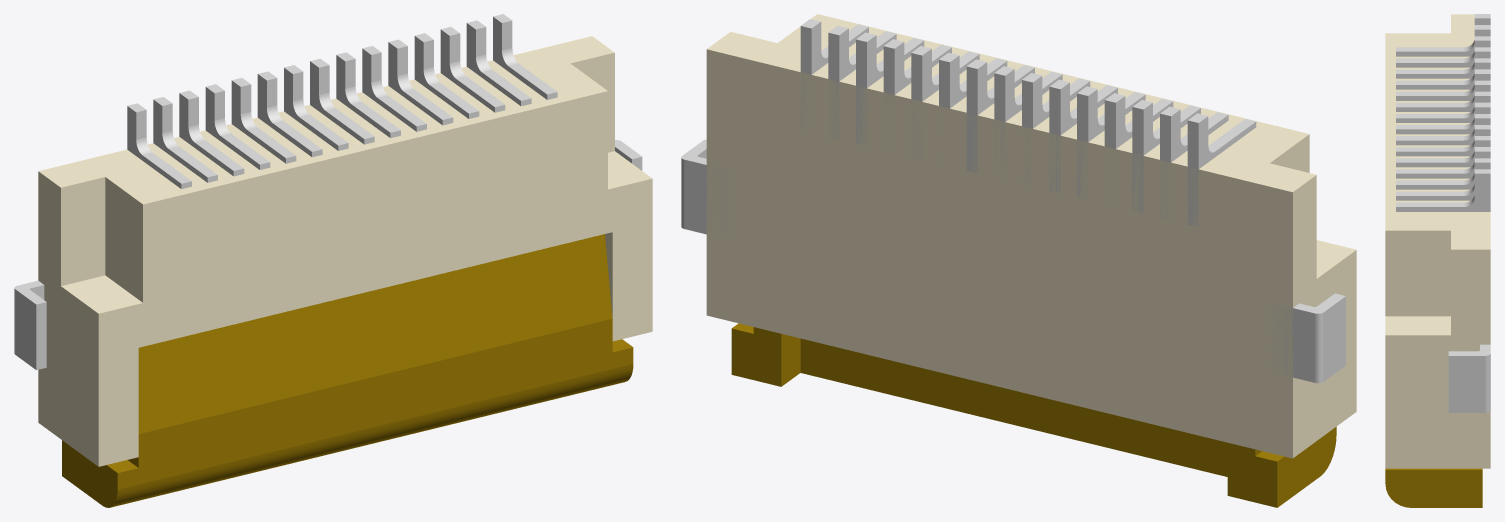
The model's file is Hirose_FH12-15S-0.5SH_1x15-1MP_P0.50mm_Horizontal.glb.
3 renders of one model, left to right at view 1: azimuth 30°, elevation 25°; view 2: azimuth 150°, elevation 25°; view 3: azimuth 270°, elevation 25°, orthographic. The views are drawn at different scales.
Parts seen in each view (by area): view 1: Shape_IndexedFaceSet.005, Shape_IndexedFaceSet.023, Shape_IndexedFaceSet.016, Shape_IndexedFaceSet, Shape_IndexedFaceSet.008, Shape_IndexedFaceSet.018, Shape_IndexedFaceSet.007, Shape_IndexedFaceSet.006, Shape_IndexedFaceSet.020, Shape_IndexedFaceSet.014, Shape_IndexedFaceSet.226, Shape_IndexedFaceSet.003 (+17 smaller); view 2: Shape_IndexedFaceSet.001, Shape_IndexedFaceSet.030, Shape_IndexedFaceSet, Shape_IndexedFaceSet.008, Shape_IndexedFaceSet.027, Shape_IndexedFaceSet.026, Shape_IndexedFaceSet.233, Shape_IndexedFaceSet.020, Shape_IndexedFaceSet.224, Shape_IndexedFaceSet.226, Shape_IndexedFaceSet.165, Shape_IndexedFaceSet.102 (+13 smaller); view 3: Shape_IndexedFaceSet.002, Shape_IndexedFaceSet, Shape_IndexedFaceSet.004, Shape_IndexedFaceSet.017, Shape_IndexedFaceSet.217, Shape_IndexedFaceSet.010, Shape_IndexedFaceSet.094, Shape_IndexedFaceSet.070, Shape_IndexedFaceSet.066, Shape_IndexedFaceSet.074, Shape_IndexedFaceSet.078, Shape_IndexedFaceSet.038 (+27 smaller).
Part boxes in pixels (x1,y1,x2,y2): Shape_IndexedFaceSet.005: (98, 91, 652, 466); Shape_IndexedFaceSet.023: (138, 234, 612, 433); Shape_IndexedFaceSet.016: (117, 318, 633, 489); Shape_IndexedFaceSet: (38, 36, 614, 204); Shape_IndexedFaceSet.008: (38, 171, 98, 466); Shape_IndexedFaceSet.018: (110, 364, 633, 507); Shape_IndexedFaceSet.007: (61, 177, 105, 285); Shape_IndexedFaceSet.006: (105, 177, 142, 302); Shape_IndexedFaceSet.020: (62, 440, 117, 507); Shape_IndexedFaceSet.014: (61, 275, 142, 313); Shape_IndexedFaceSet.226: (15, 289, 36, 369); Shape_IndexedFaceSet.003: (570, 52, 614, 152); Shape_IndexedFaceSet.001: (706, 49, 1292, 458); Shape_IndexedFaceSet.030: (800, 338, 1227, 476); Shape_IndexedFaceSet: (707, 14, 1316, 192); Shape_IndexedFaceSet.008: (1293, 175, 1356, 457); Shape_IndexedFaceSet.027: (1227, 443, 1277, 507); Shape_IndexedFaceSet.026: (731, 327, 781, 386); Shape_IndexedFaceSet.233: (1271, 304, 1314, 382); Shape_IndexedFaceSet.020: (1277, 426, 1336, 507); Shape_IndexedFaceSet.224: (684, 159, 728, 239); Shape_IndexedFaceSet.226: (1323, 296, 1345, 381); Shape_IndexedFaceSet.165: (966, 66, 977, 172); Shape_IndexedFaceSet.102: (1187, 120, 1198, 226); Shape_IndexedFaceSet.002: (1385, 249, 1490, 468); Shape_IndexedFaceSet: (1385, 14, 1490, 249); Shape_IndexedFaceSet.004: (1385, 230, 1450, 316); Shape_IndexedFaceSet.017: (1385, 470, 1482, 507); Shape_IndexedFaceSet.217: (1448, 356, 1485, 412); Shape_IndexedFaceSet.010: (1385, 316, 1450, 335); Shape_IndexedFaceSet.094: (1396, 173, 1490, 211); Shape_IndexedFaceSet.070: (1396, 107, 1490, 145); Shape_IndexedFaceSet.066: (1396, 96, 1490, 134); Shape_IndexedFaceSet.074: (1396, 118, 1490, 156); Shape_IndexedFaceSet.078: (1396, 129, 1490, 167); Shape_IndexedFaceSet.038: (1396, 18, 1490, 56).
Bounding box in the file's own units: 4.57 × 2.52 × 0.7874.
